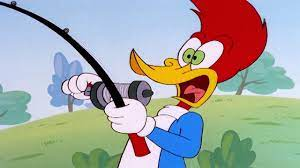picapau: (52, 1, 271, 168)
